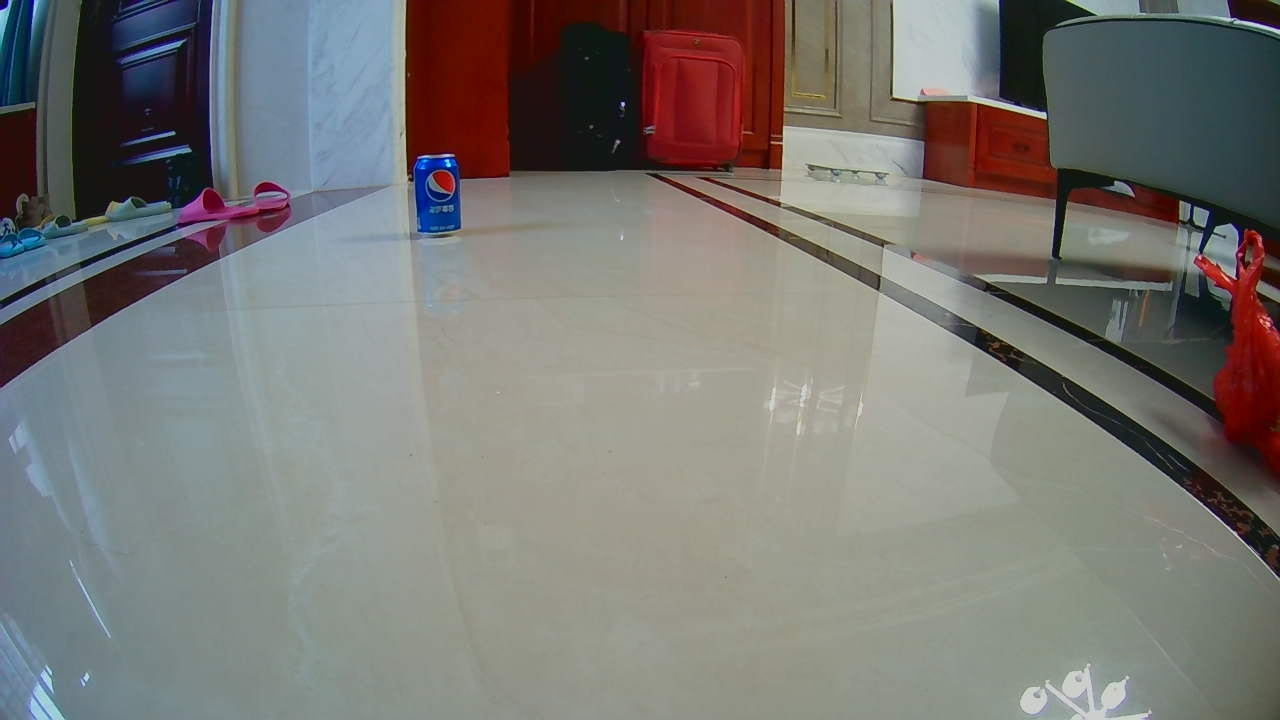pessi: (409, 156, 462, 232)
